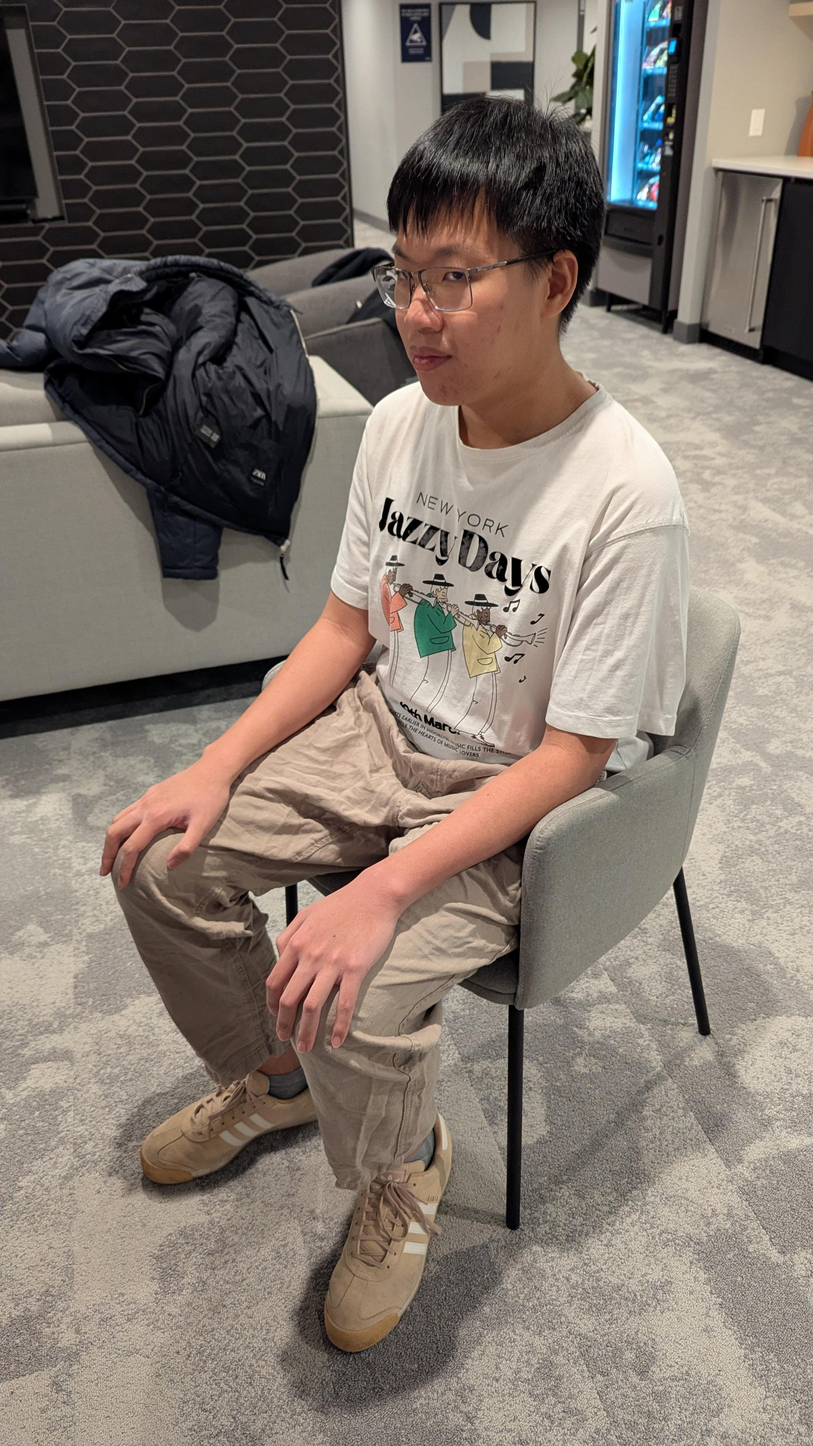GoodPosture: (96, 93, 690, 1352)
